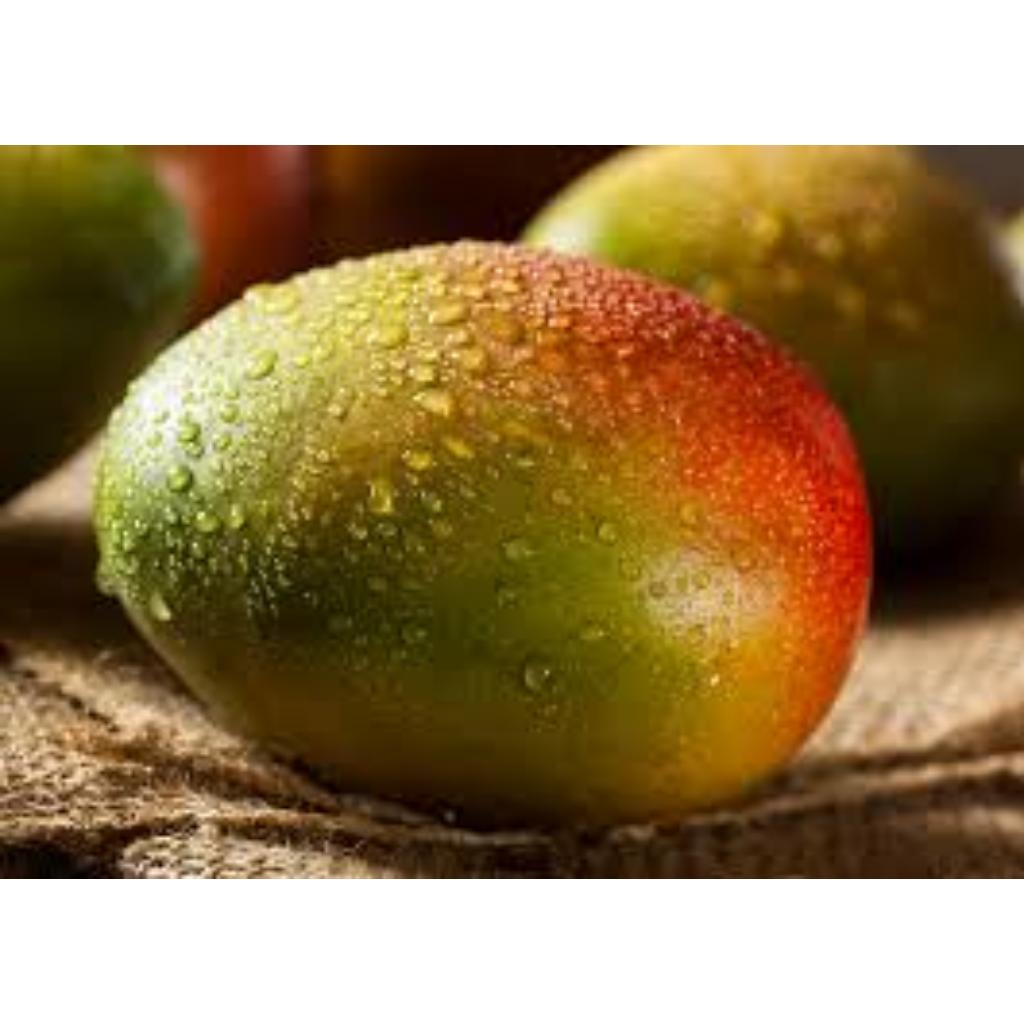mango: (93, 242, 869, 833)
